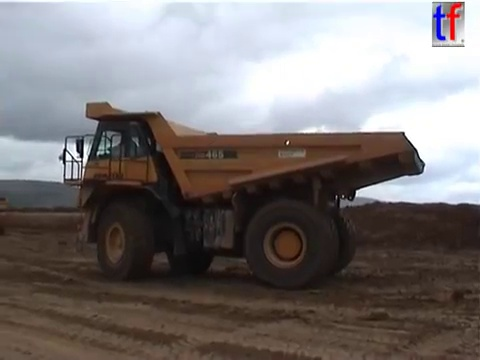truck: (56, 99, 427, 291), (1, 195, 10, 215)
